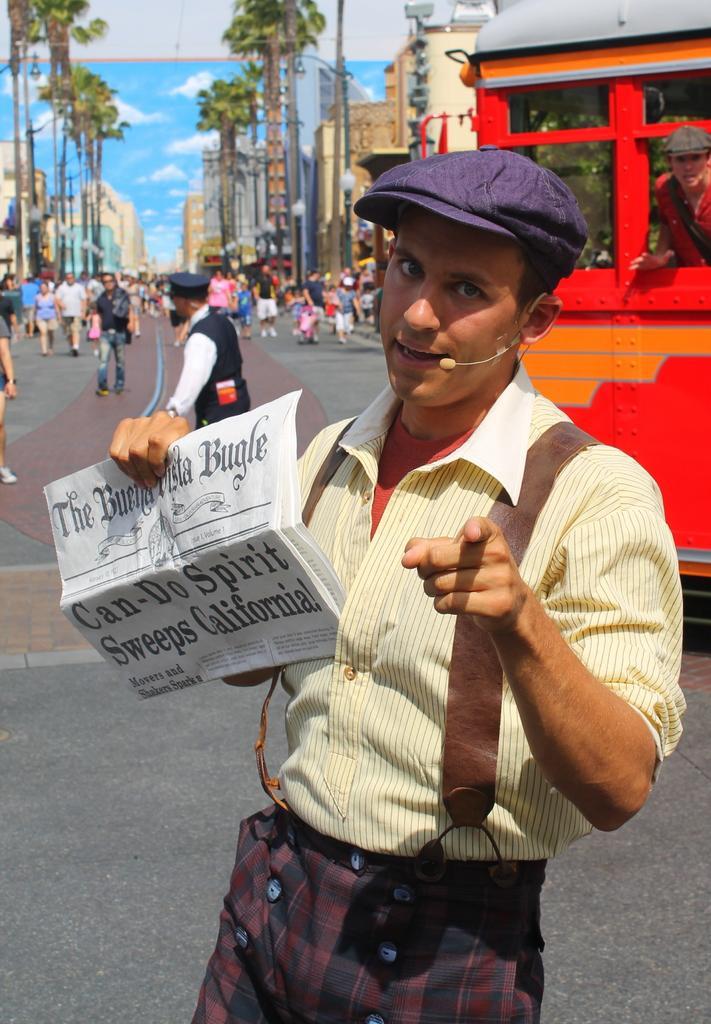Hat: (348, 144, 588, 278), (155, 268, 213, 300)
